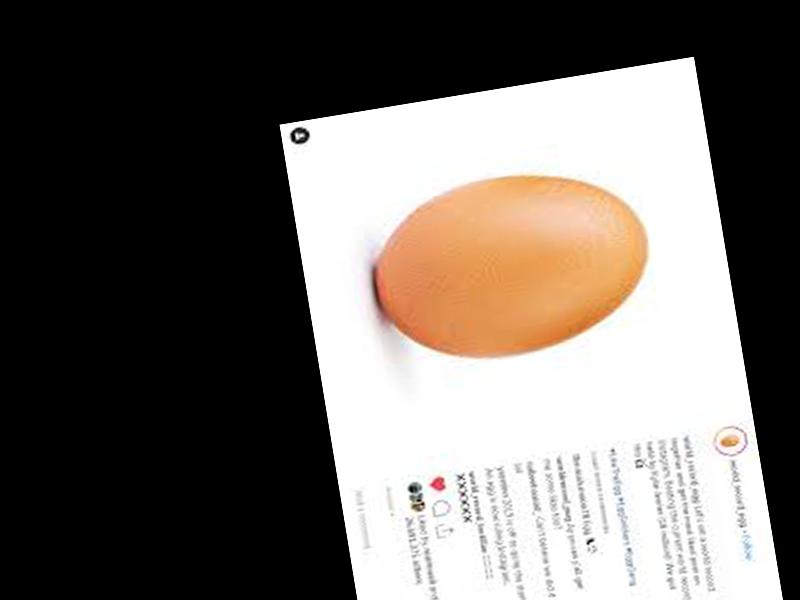Eggs: (364, 156, 660, 374)
